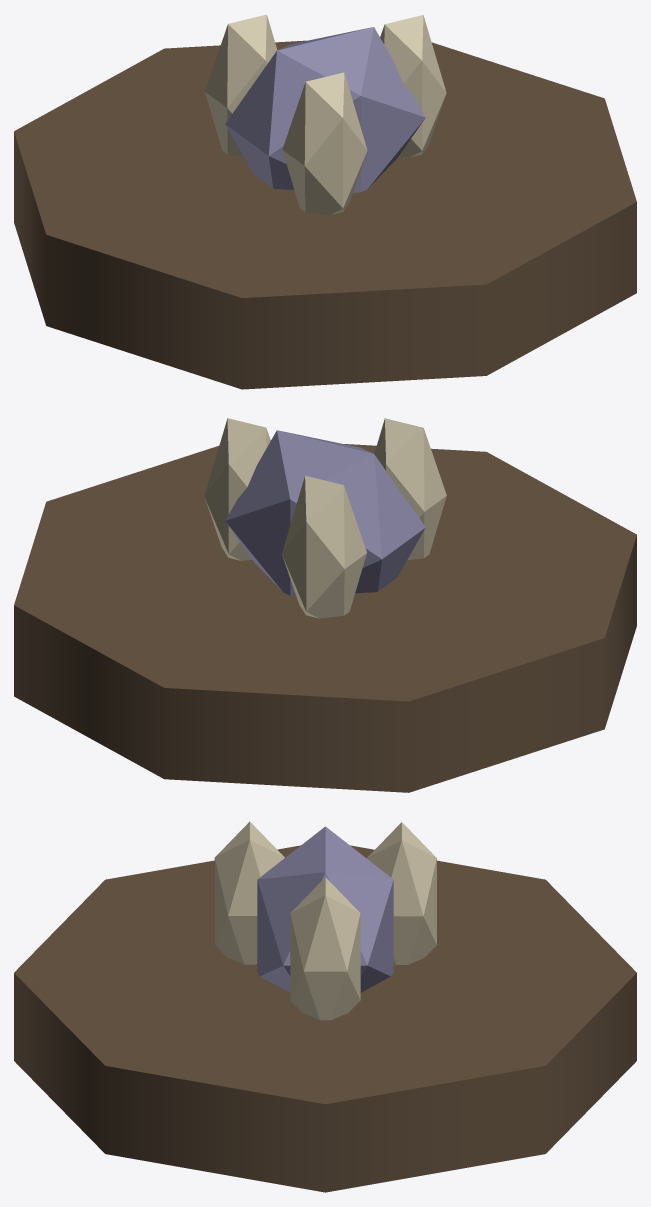
Rendered from plant-starcap-0.glb.
3 views of the same model, one above another, from view 1: azimuth 30°, elevation 25°; view 2: azimuth 150°, elevation 25°; view 3: azimuth 270°, elevation 25° (orthographic). The views are drawn at different scales.
Visible parts, largest first — view 1: plant-starcap-0-visual; view 2: plant-starcap-0-visual; view 3: plant-starcap-0-visual.
Boxes of the visible parts, bbox=[...] form: plant-starcap-0-visual: bbox=[14, 14, 636, 389]; plant-starcap-0-visual: bbox=[14, 418, 636, 792]; plant-starcap-0-visual: bbox=[14, 821, 636, 1192].
Size of the model in its own units: 0.32 by 0.12 by 0.32.
